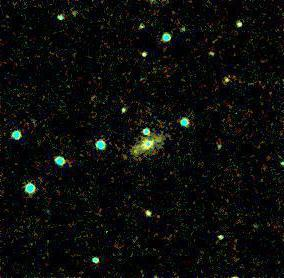star: (119, 137, 149, 167)
